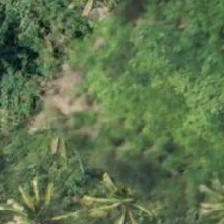coconut_tree: (82, 170, 172, 223), (0, 174, 79, 223)
